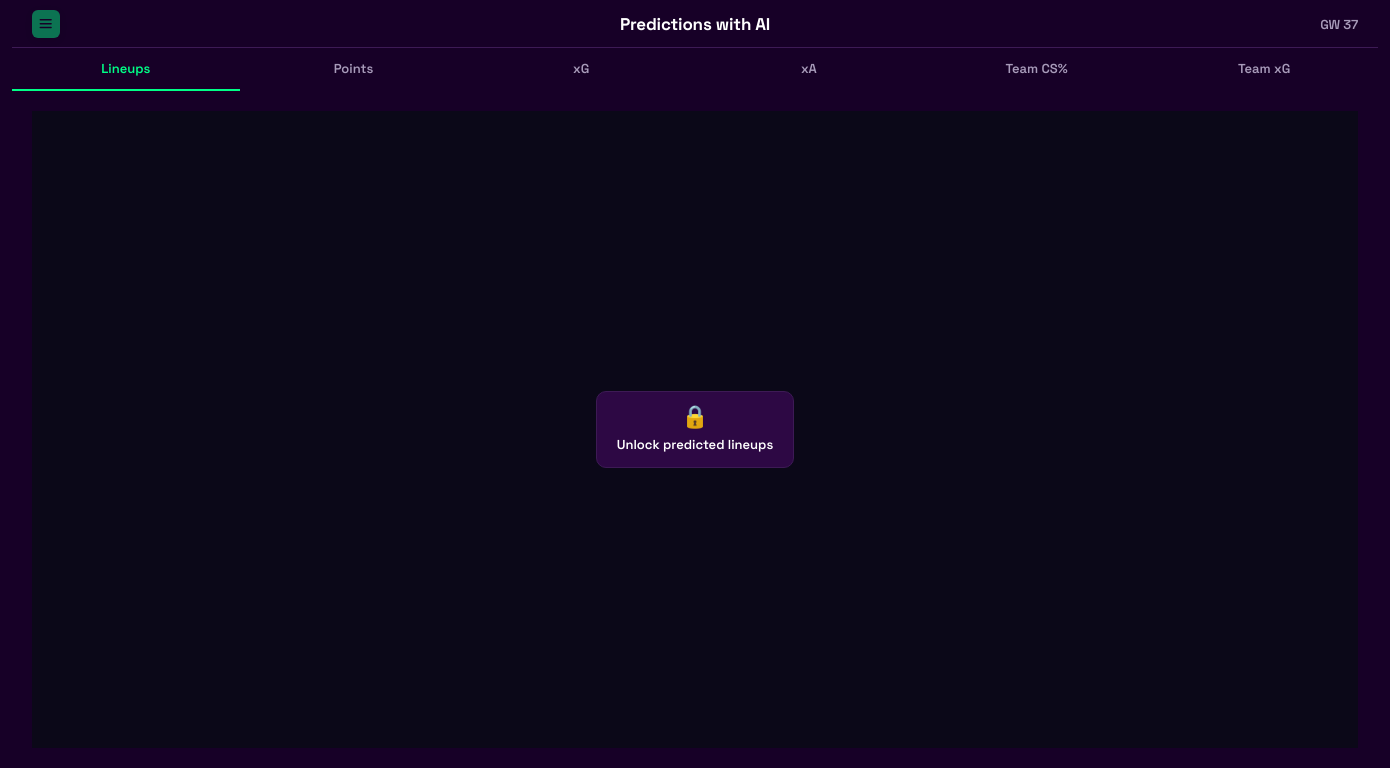
Test: PredictionsScreen › xA tab › shows top 2 assist rows and lock overlay for free user
This screenshot has width=1390, height=768.
Click the tab "xA" at (809, 70), box [695,48,923,91]
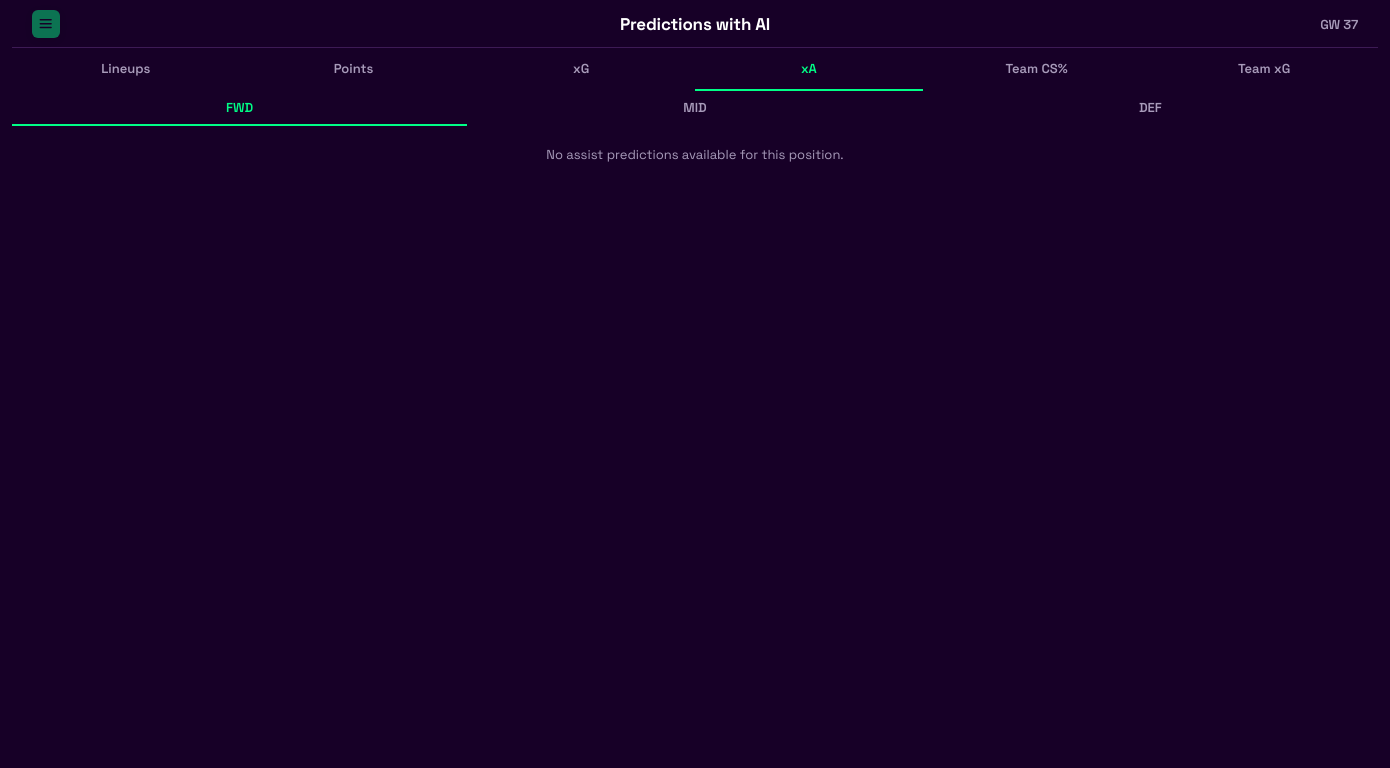
Click the tab "MID" at (695, 108), box [467,91,923,126]
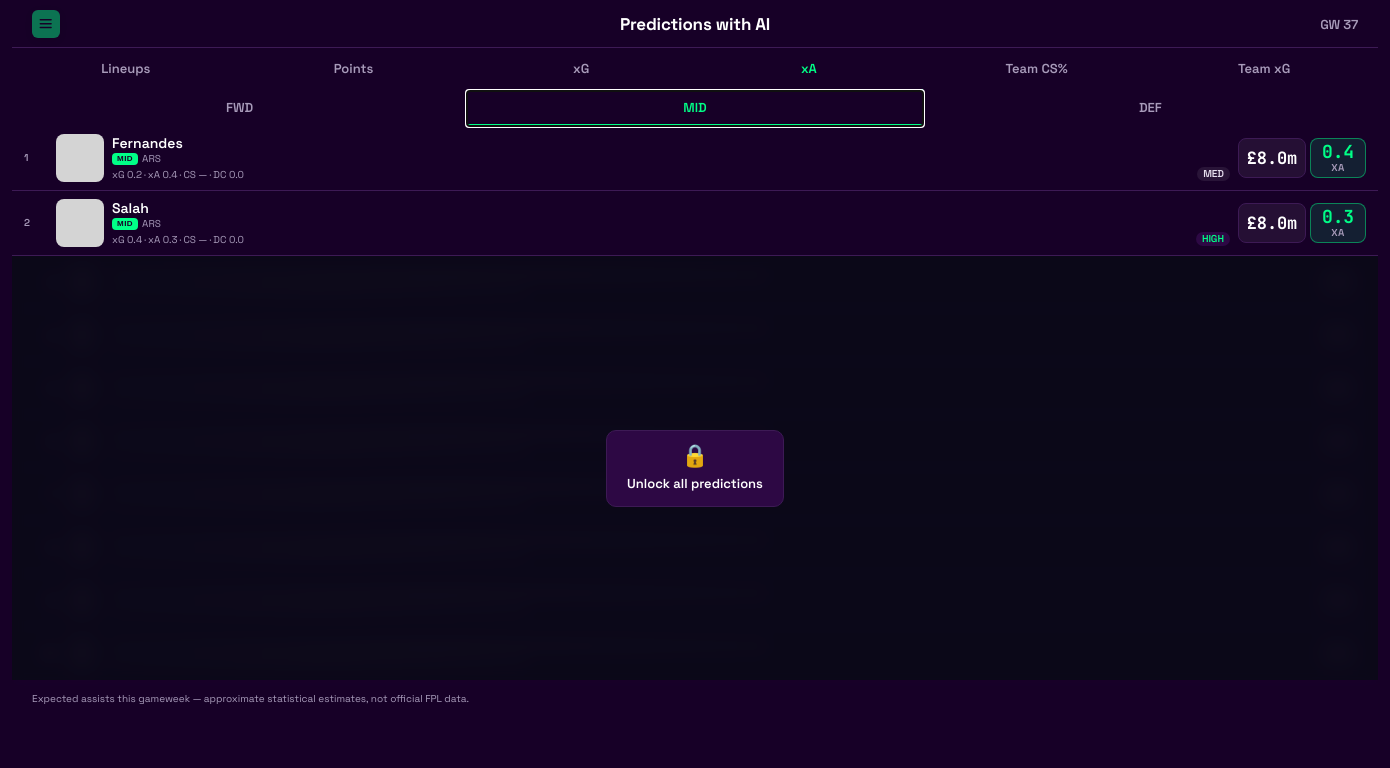
Now the text "Fernandes" is shown, box [112,134,183,152]
Now the text "Salah" is shown, box [112,199,149,217]
Now the text "Unlock all predictions" is shown, box [627,474,763,492]
